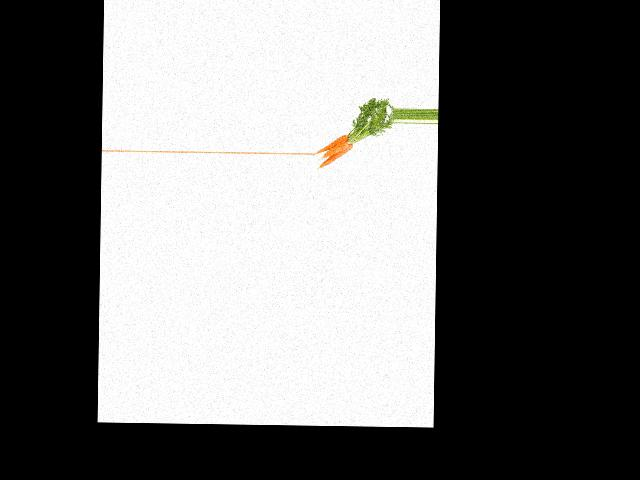carrot: (316, 133, 347, 155)
